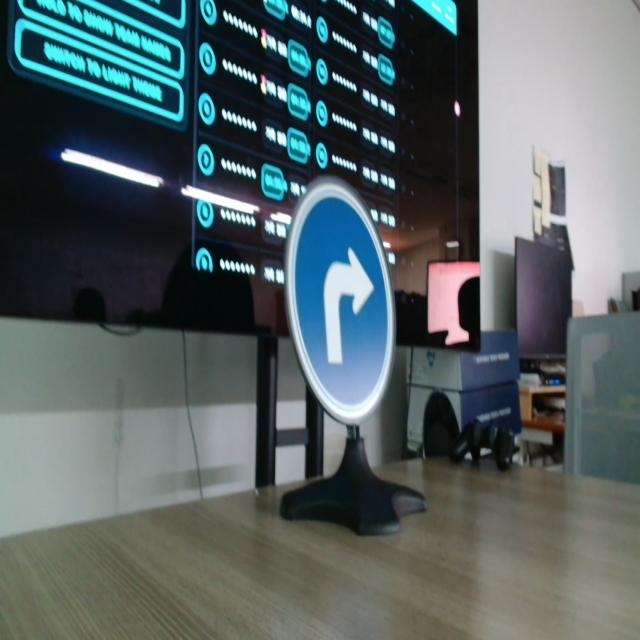right_dierection: (281, 151, 398, 452)
